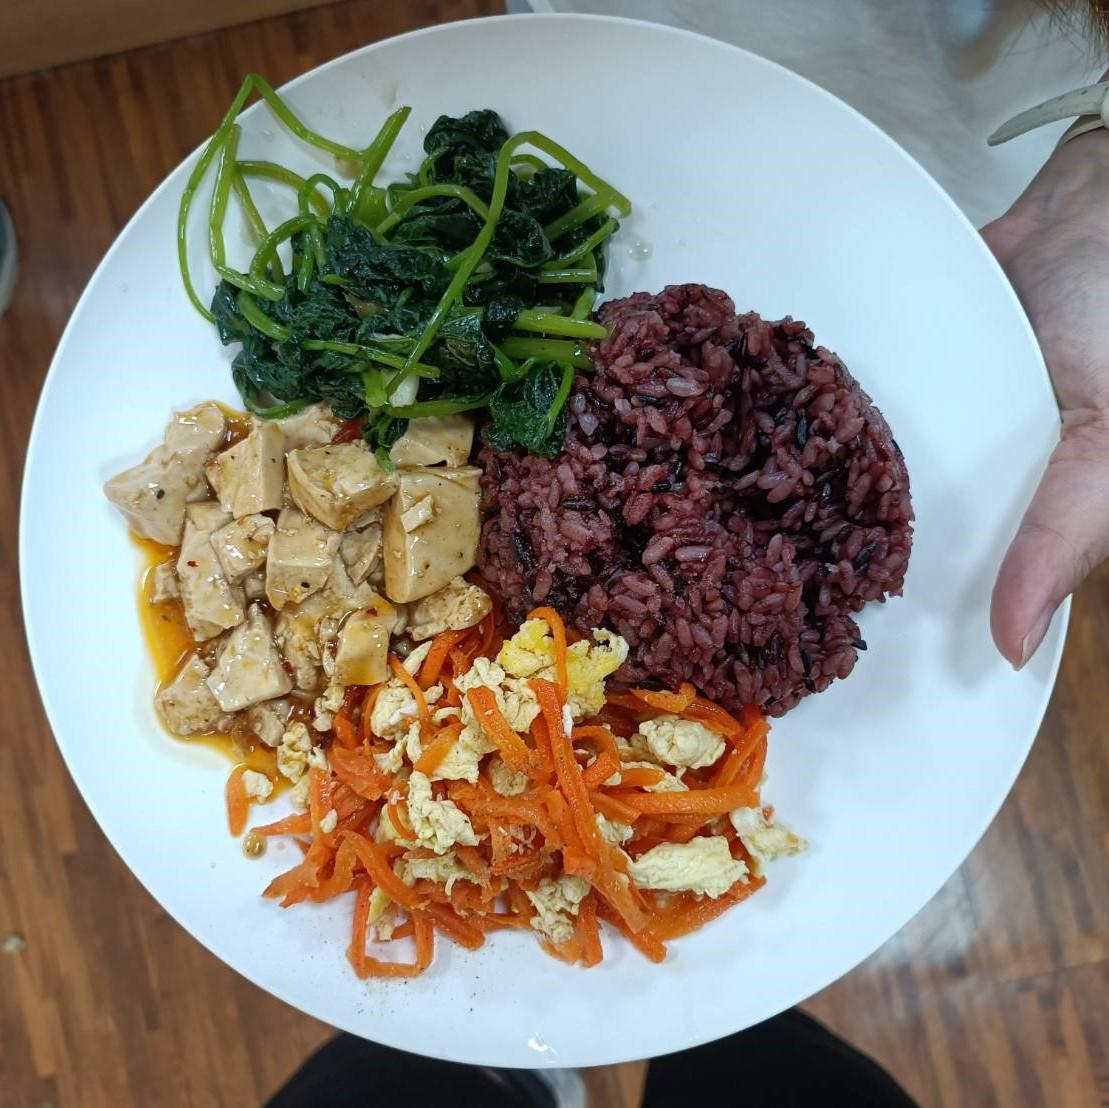big fried chicken leg: (4, 13, 1091, 1080)
braised fish: (470, 271, 919, 723)
braised fish fillet: (232, 643, 811, 959), (206, 108, 630, 425), (144, 398, 490, 744)
